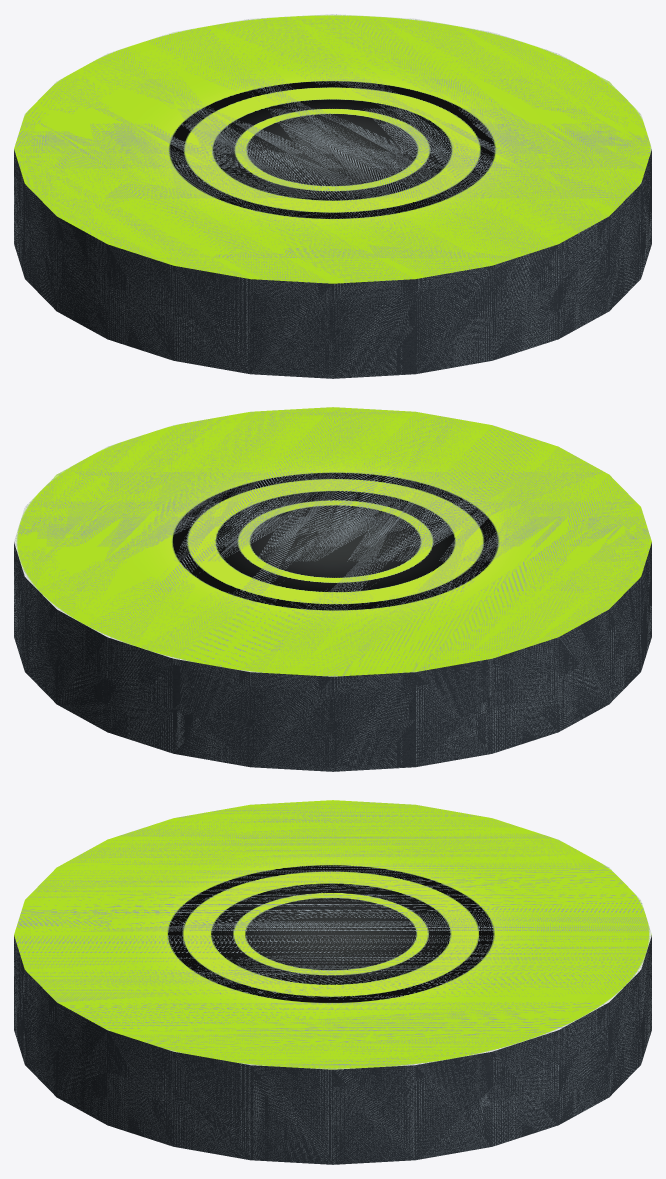
File: atom2.dae
The picture shows the model from 3 angles, top to bottom: view 1: azimuth 30°, elevation 25°; view 2: azimuth 150°, elevation 25°; view 3: azimuth 270°, elevation 25°; orthographic projection.
Parts seen in each view (by area): view 1: SketchUp (×2); view 2: SketchUp (×2); view 3: SketchUp (×2).
Boxes of the visible parts, left/top/right/bottom form: SketchUp (×2): left=14, top=14, right=651, bottom=378; SketchUp (×2): left=14, top=407, right=651, bottom=771; SketchUp (×2): left=14, top=800, right=651, bottom=1164.
Size of the model in its own units: 5.98 by 5.98 by 0.9843.
3 materials, 2 textured.
